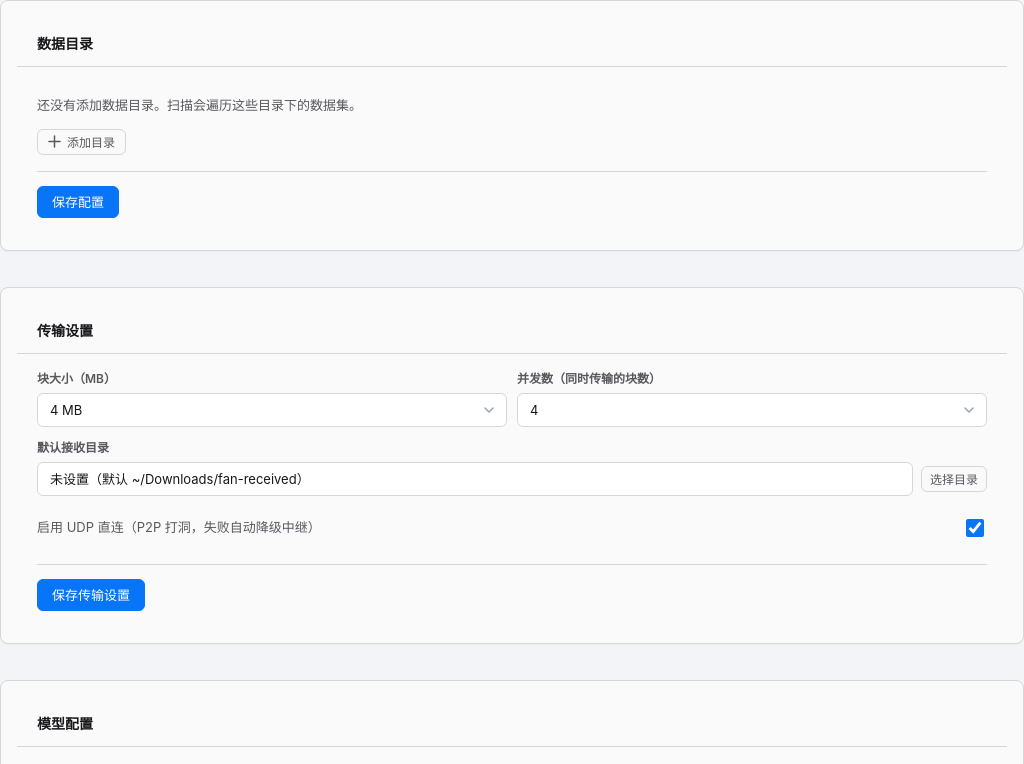
it: SettingsPage › appends the picked directory to the include list
Click the button "添加目录". click: (82, 142)
box: [37,128,126,154]
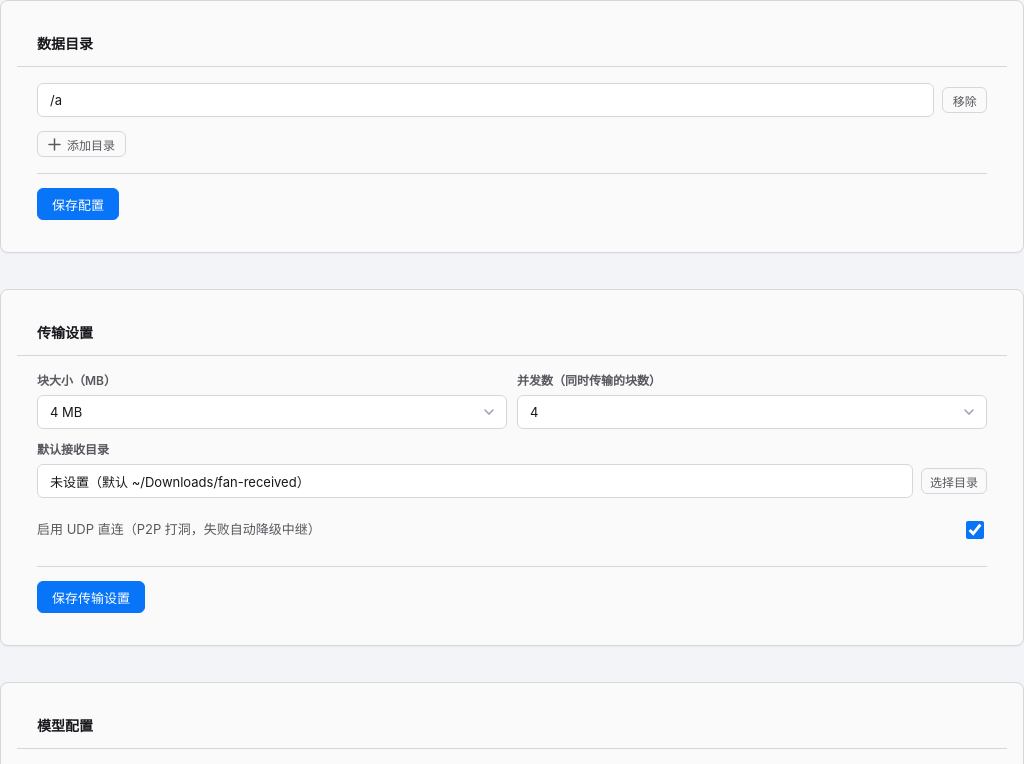
Expected: the field showing "/a" is shown, [37,83,934,117]
